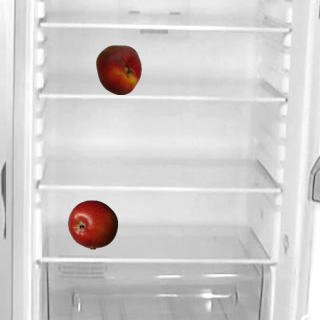Apple Braeburn: (67, 199, 117, 249)
Nectarine Flat: (93, 44, 143, 94)
